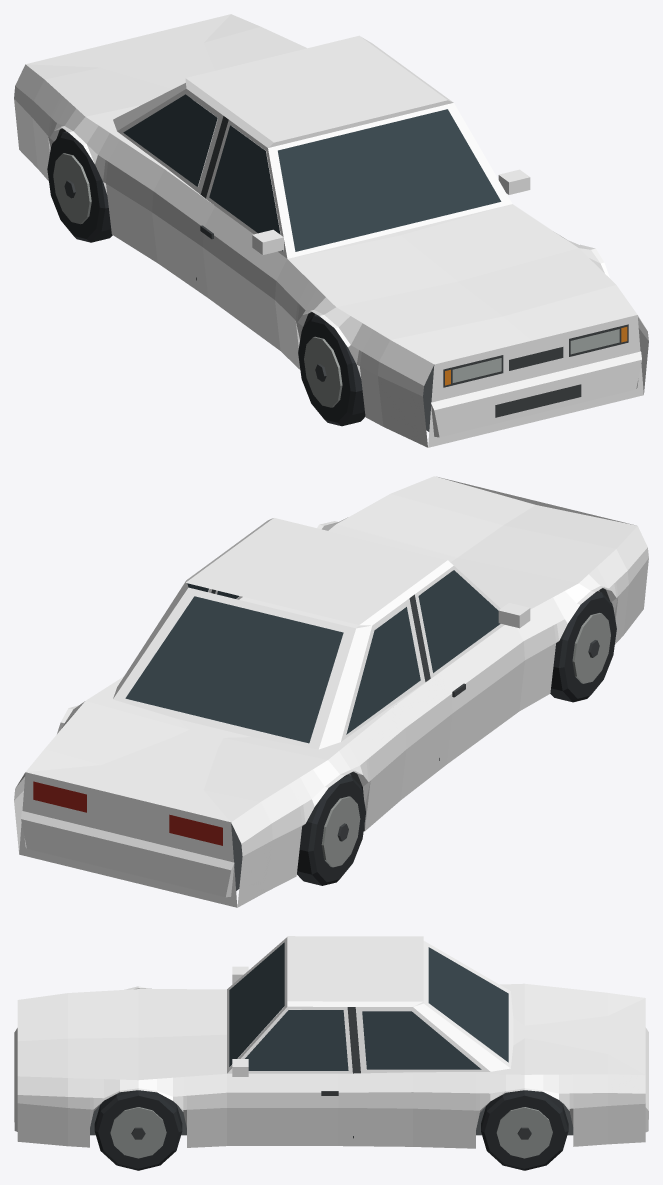
The model's file is hayase_akane_gt.glb.
3 views of the same model, one above another, from view 1: azimuth 30°, elevation 25°; view 2: azimuth 150°, elevation 25°; view 3: azimuth 270°, elevation 25° (orthographic). The views are drawn at different scales.
Visible parts, largest first — view 1: hayase_akane_gt; view 2: hayase_akane_gt; view 3: hayase_akane_gt.
Part boxes in pixels (x1,y1,x2,y2): hayase_akane_gt: (14, 14, 648, 447); hayase_akane_gt: (14, 476, 648, 907); hayase_akane_gt: (14, 936, 648, 1170).
Size of the model in its own units: 1.82 by 1.25 by 4.7.
Materials: 8 (1 with a texture image).
